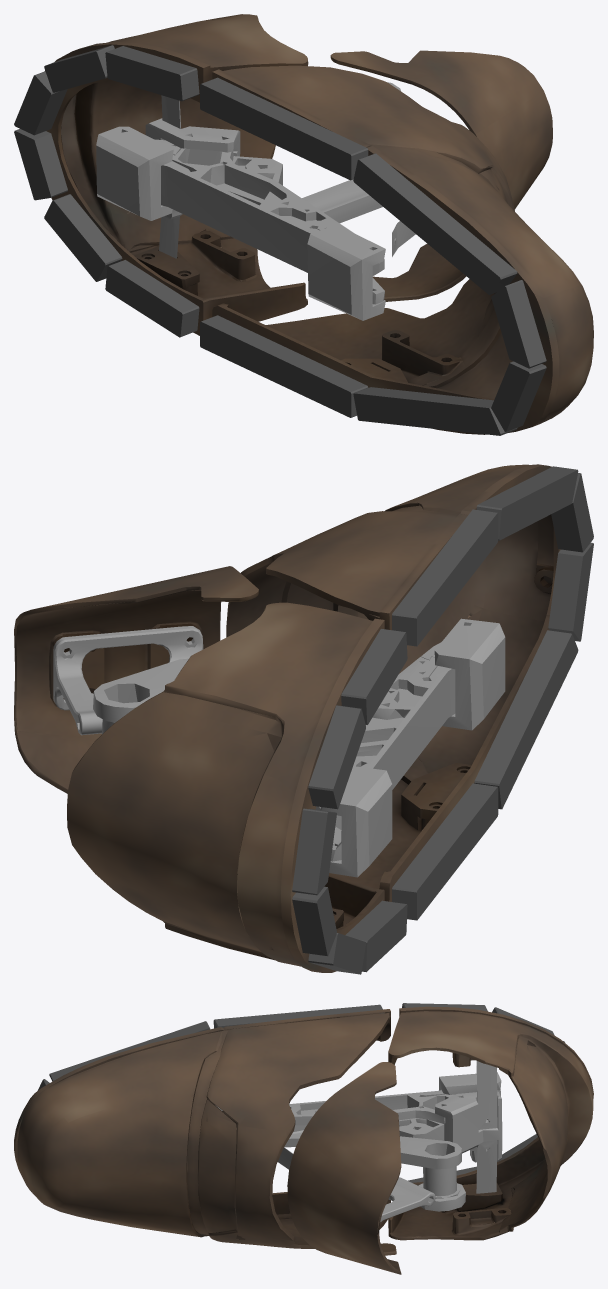
The model's file is foot_l.dae.
3 views of the same model, one above another, from view 1: azimuth 30°, elevation 25°; view 2: azimuth 150°, elevation 25°; view 3: azimuth 270°, elevation 25° (orthographic). The views are drawn at different scales.
Parts seen in each view (by area): view 1: foot_l; view 2: foot_l; view 3: foot_l.
Boxes of the visible parts, box(x1,y1,x2,y2) form: foot_l: box(14, 14, 593, 435); foot_l: box(14, 464, 593, 974); foot_l: box(14, 1003, 593, 1274).
Size of the model in its own units: 0.2036 by 0.339 by 0.1313.
3 materials, 1 textured.
